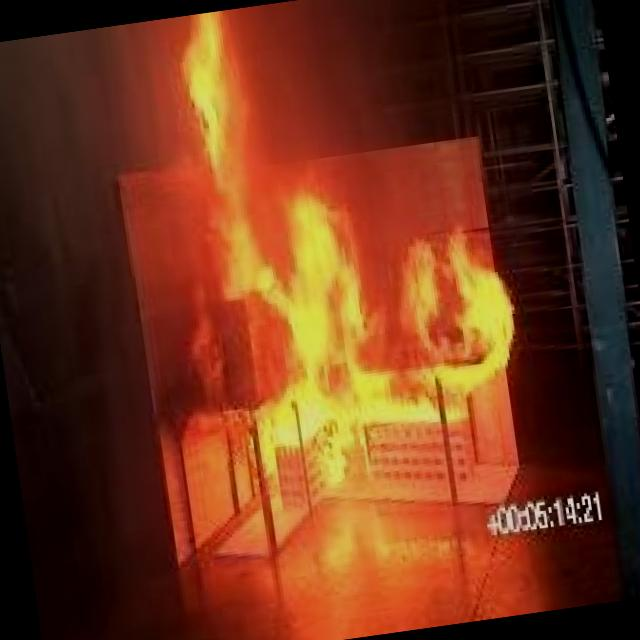fire: (69, 0, 560, 587)
